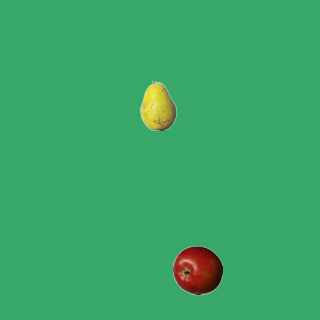Apple Braeburn: (172, 245, 222, 295)
Pear Monster: (133, 80, 183, 130)
